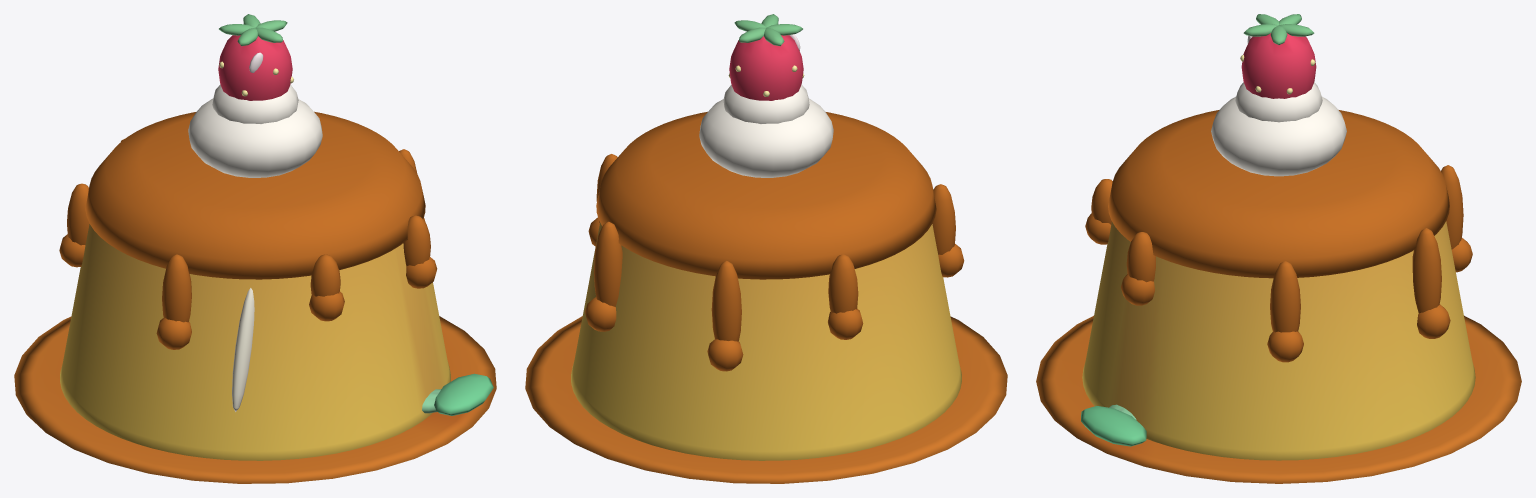
Rendered from pudding.glb.
3 renders of one model, left to right at view 1: azimuth 30°, elevation 25°; view 2: azimuth 150°, elevation 25°; view 3: azimuth 270°, elevation 25°, orthographic.
Visible parts, largest first — view 1: custard, gc26a1e, pool, cfffaf0, berry_body, mint_a, shine, c7cc68a; view 2: custard, gc26a1e, pool, cfffaf0, berry_body, c7cc68a; view 3: custard, gc26a1e, pool, cfffaf0, berry_body, mint_a, c7cc68a.
Boxes of the visible parts, <box> form: custard: <box>60,224,450,460</box>; gc26a1e: <box>59,111,437,349</box>; pool: <box>14,316,496,483</box>; cfffaf0: <box>188,84,322,177</box>; berry_body: <box>218,35,292,100</box>; mint_a: <box>434,373,493,415</box>; shine: <box>232,288,254,411</box>; c7cc68a: <box>219,14,287,46</box>; custard: <box>571,222,961,460</box>; gc26a1e: <box>585,111,964,371</box>; pool: <box>525,316,1007,483</box>; cfffaf0: <box>699,84,833,177</box>; berry_body: <box>729,35,803,100</box>; c7cc68a: <box>734,14,802,46</box>; custard: <box>1082,221,1475,460</box>; gc26a1e: <box>1085,110,1472,362</box>; pool: <box>1036,315,1521,483</box>; cfffaf0: <box>1211,82,1346,176</box>; berry_body: <box>1241,33,1316,98</box>; mint_a: <box>1081,406,1146,446</box>; c7cc68a: <box>1243,14,1314,44</box>.
Bounding box in the file's own units: 0.5 × 0.4145 × 0.5.
